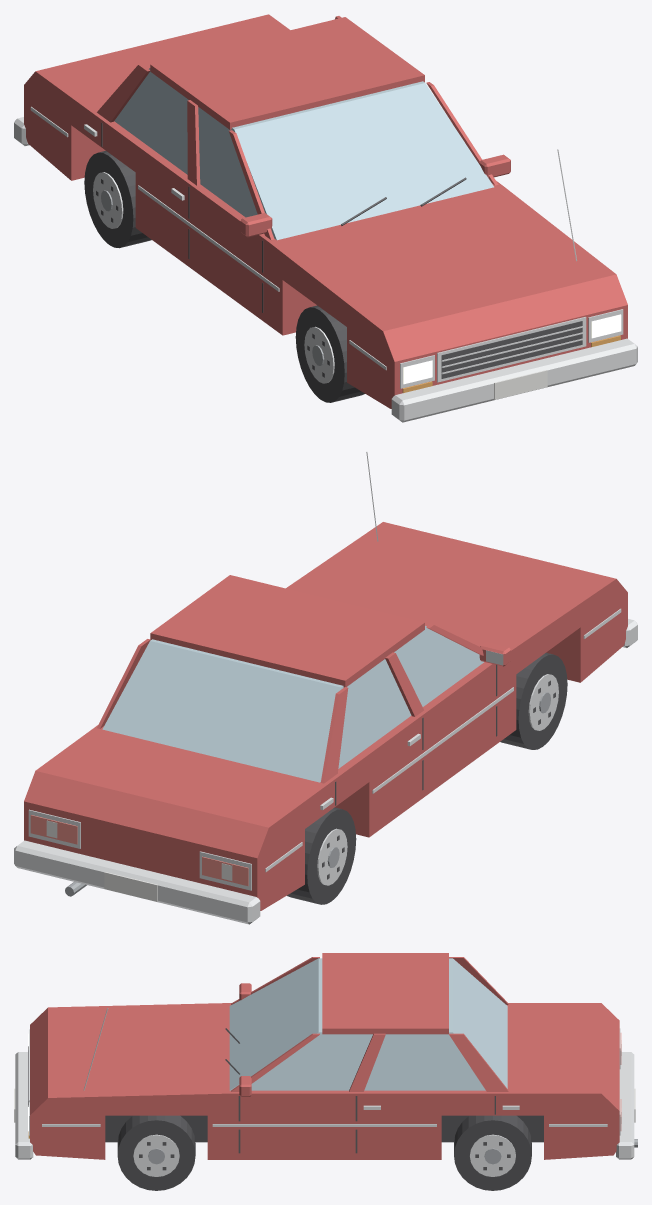
Rendered from car_sedan_r.glb.
3 views of the same model, one above another, from view 1: azimuth 30°, elevation 25°; view 2: azimuth 150°, elevation 25°; view 3: azimuth 270°, elevation 25° (orthographic). The views are drawn at different scales.
Visible parts, largest first — view 1: car_sedan_r_car_r, car_sedan_r_glass, car_sedan_r_chrome, car_sedan_r_rubber, car_sedan_r_dark, car_sedan_r_lamp_glass, car_sedan_r_paint_w; view 2: car_sedan_r_car_r, car_sedan_r_glass, car_sedan_r_chrome, car_sedan_r_rubber, car_sedan_r_neon_r, car_sedan_r_paint_w; view 3: car_sedan_r_car_r, car_sedan_r_glass, car_sedan_r_rubber, car_sedan_r_chrome, car_sedan_r_dark, car_sedan_r_steel.
Part boxes in pixels (<box>): car_sedan_r_car_r: <box>24,14,627,408</box>; car_sedan_r_glass: <box>114,68,493,240</box>; car_sedan_r_chrome: <box>14,106,637,422</box>; car_sedan_r_rubber: <box>84,150,364,402</box>; car_sedan_r_dark: <box>96,122,582,378</box>; car_sedan_r_lamp_glass: <box>403,314,621,384</box>; car_sedan_r_paint_w: <box>494,370,547,399</box>; car_sedan_r_car_r: <box>24,522,627,910</box>; car_sedan_r_glass: <box>102,626,483,782</box>; car_sedan_r_chrome: <box>14,451,637,924</box>; car_sedan_r_rubber: <box>287,652,567,904</box>; car_sedan_r_neon_r: <box>30,815,248,886</box>; car_sedan_r_paint_w: <box>46,820,232,901</box>; car_sedan_r_car_r: <box>30,953,619,1159</box>; car_sedan_r_glass: <box>229,958,507,1090</box>; car_sedan_r_rubber: <box>105,1115,543,1190</box>; car_sedan_r_chrome: <box>15,1008,634,1176</box>; car_sedan_r_dark: <box>28,1028,510,1170</box>; car_sedan_r_steel: <box>148,1139,637,1164</box>.
Size of the model in its own units: 2 by 1.6 by 5.12.
